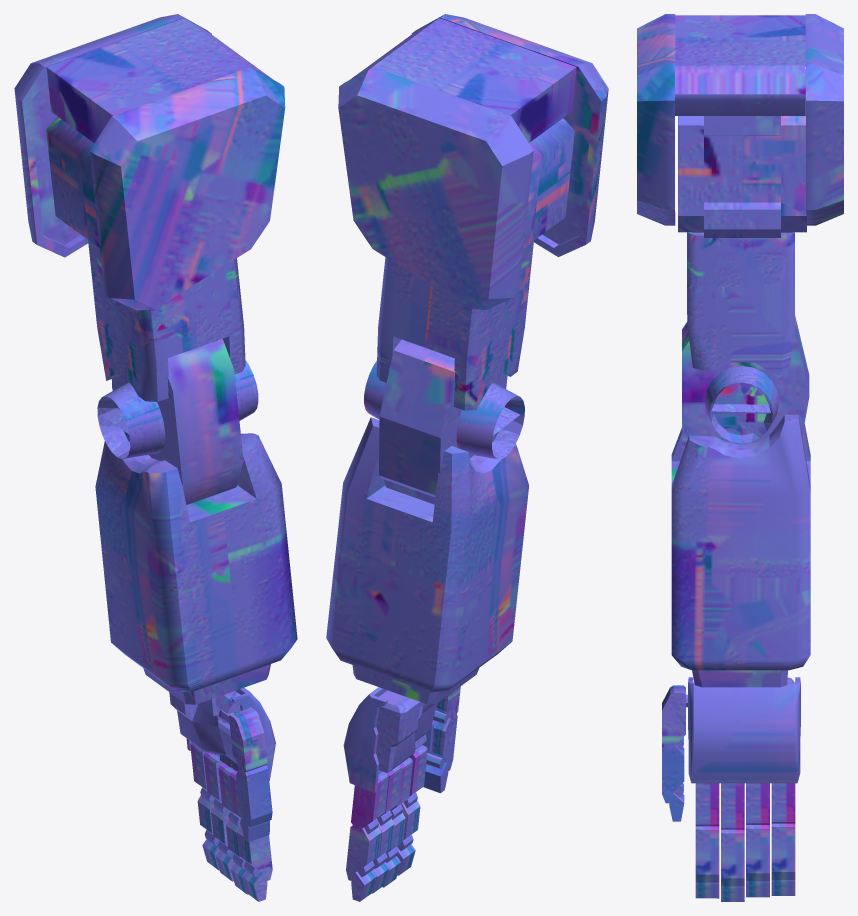
The model's file is handB.obj.
3 renders of one model, left to right at view 1: azimuth 30°, elevation 25°; view 2: azimuth 150°, elevation 25°; view 3: azimuth 270°, elevation 25°, orthographic. The views are drawn at different scales.
Parts seen in each view (by area): view 1: handB:polySurface667; view 2: handB:polySurface667; view 3: handB:polySurface667.
Part boxes in pixels (bbox=[...]): handB:polySurface667: bbox=[14, 14, 297, 901]; handB:polySurface667: bbox=[326, 14, 608, 901]; handB:polySurface667: bbox=[637, 14, 843, 901].
Bounding box in the file's own units: 3.15 × 12.02 × 2.73.
